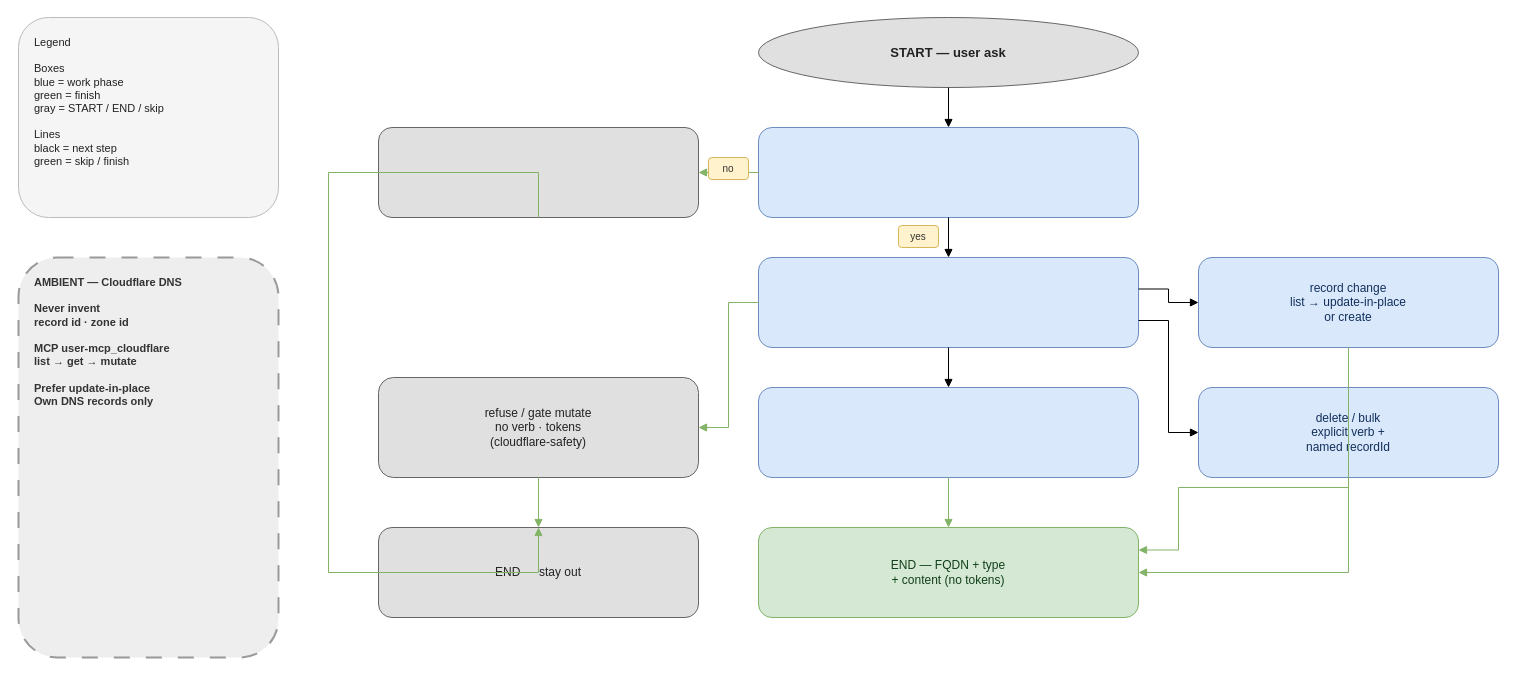
This 1516x676 diagram has some shape labels left out. The centre of each missing label's shape, as x and y in pixels:
"gate · Cloudflare DNS? record / FQDN ask" goes at (x=948, y=172).
"inventory list_dns_records → FQDN + type + content" goes at (x=948, y=432).
"route · inventory vs record change vs delete / bulk" goes at (x=948, y=302).
"skip — no Cloudflare DNS this turn" goes at (x=538, y=172).
